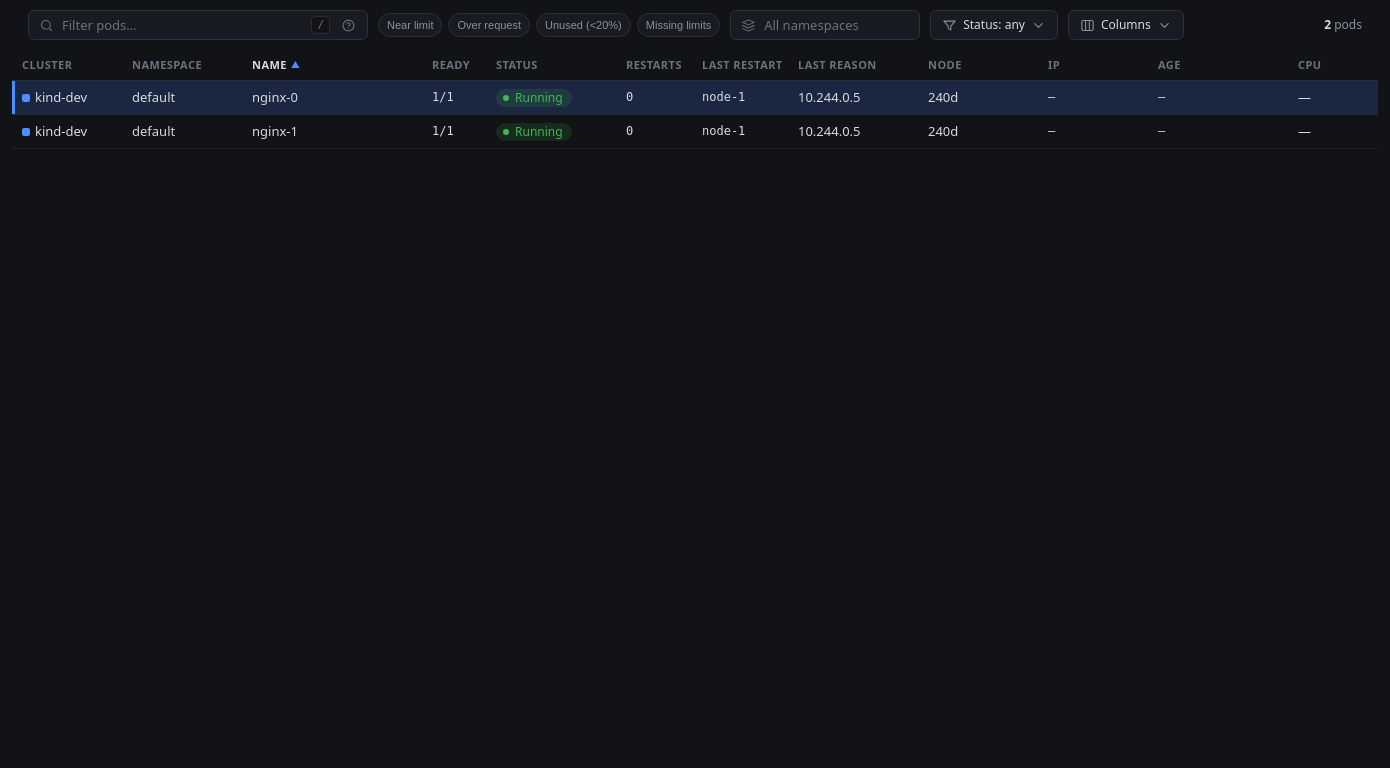
Scenario: Task R-04: Mount ResourceDrawer from PodTable with mockIPC › never shows a previous row's detail when a newer open is still in flight
Double-click the text "nginx-0" at [275, 97], box [252, 88, 298, 106]
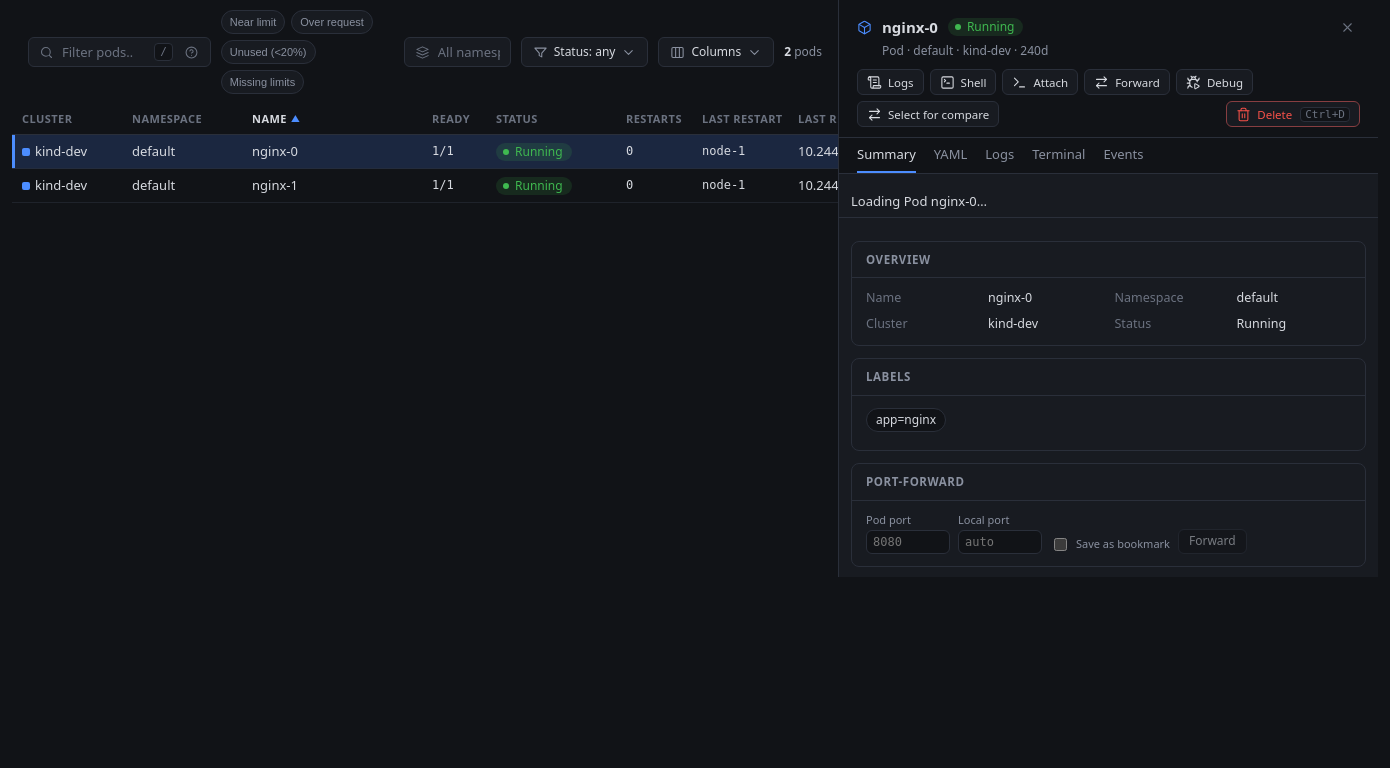
Double-click the text "nginx-1" at [275, 185], box [252, 176, 298, 194]
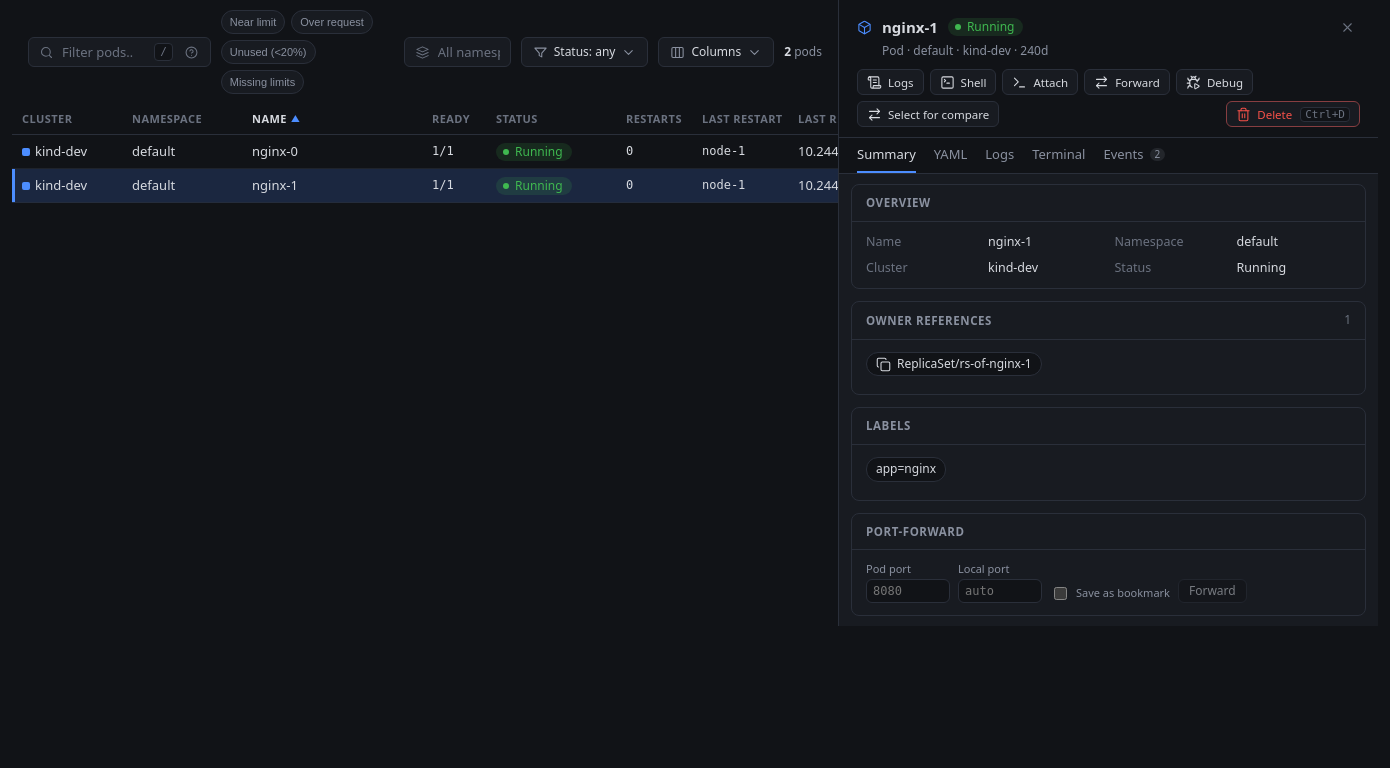
Expected: the heading "nginx-1" is shown, [882, 17, 938, 37]
Expected: the text "ReplicaSet/rs-of-nginx-1" is shown, [866, 352, 1042, 376]
Expected: the message with test id "drawer-loading" is gone
